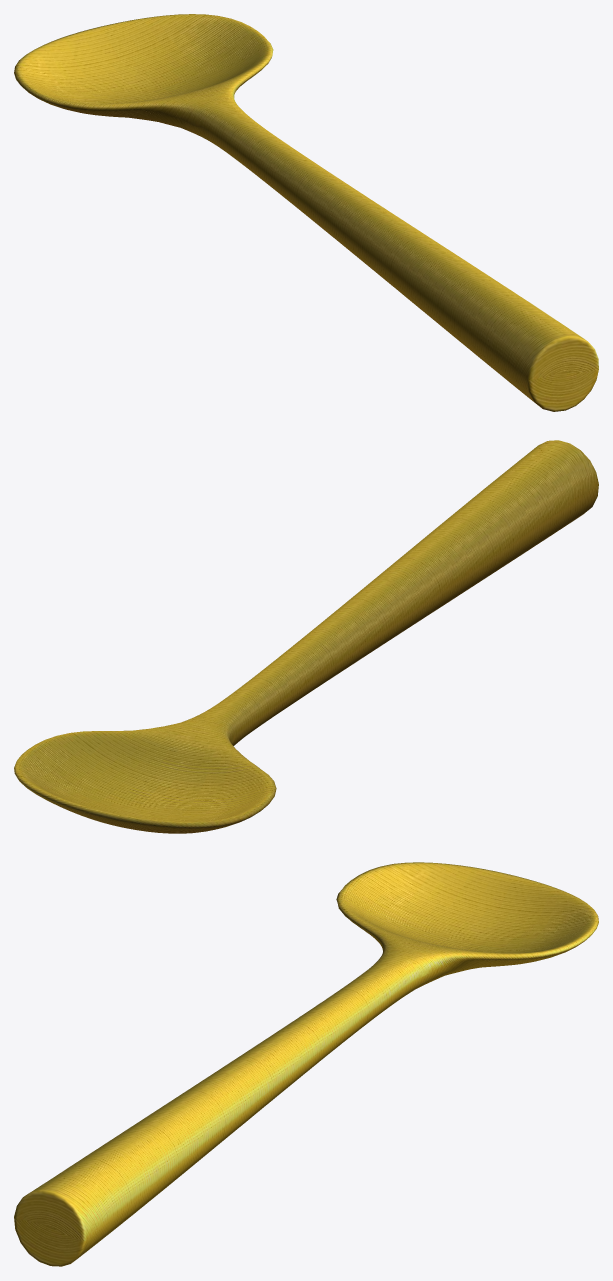
File: 18_Oval.glb
3 views of the same model, one above another, from view 1: azimuth 30°, elevation 25°; view 2: azimuth 150°, elevation 25°; view 3: azimuth 330°, elevation 25° (orthographic).
Parts seen in each view (by area): view 1: 18_Oval; view 2: 18_Oval; view 3: 18_Oval.
Part boxes in pixels (x1,y1,x2,y2): 18_Oval: (14,14,598,411); 18_Oval: (14,440,598,833); 18_Oval: (14,862,598,1266).
Size of the model in its own units: 0.0618 by 0.0187 by 0.2129.
Materials: 1 (1 with a texture image).
